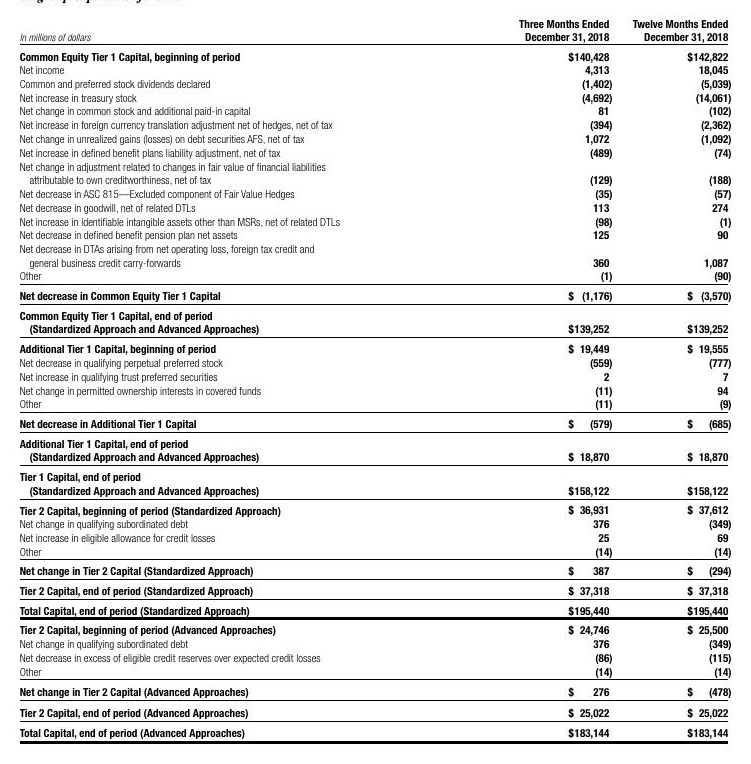table: (0, 0, 751, 764)
